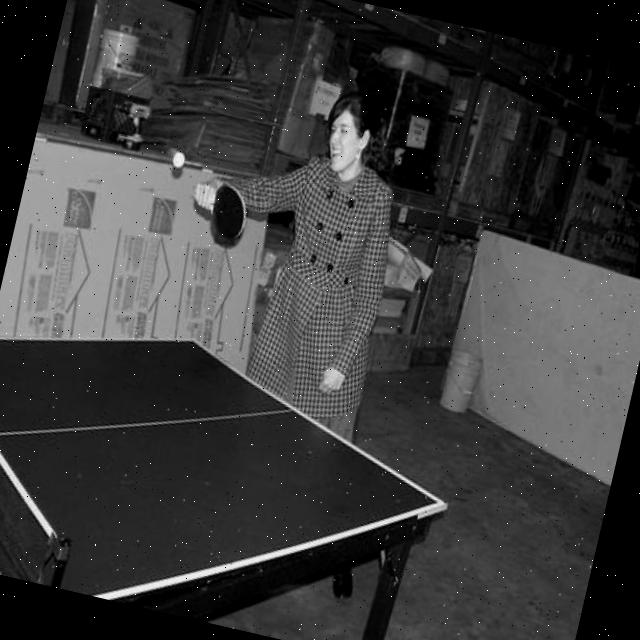ping-pong-ball: (168, 149, 186, 168)
